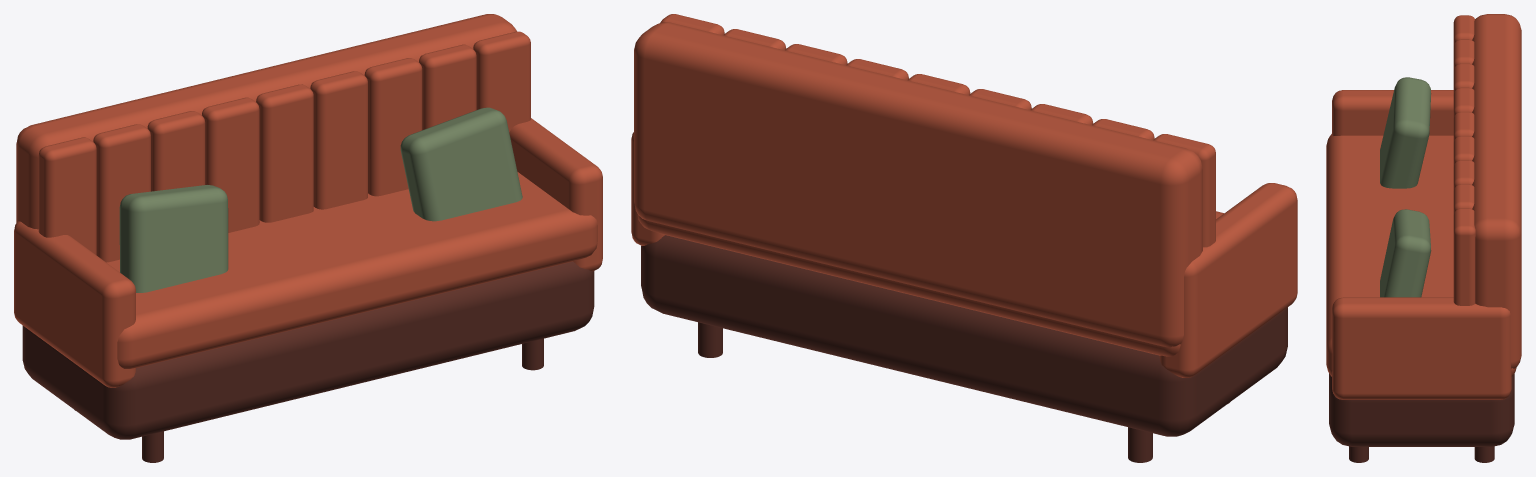
File: banquette.glb
3 views of the same model, side by side, from view 1: azimuth 30°, elevation 25°; view 2: azimuth 150°, elevation 25°; view 3: azimuth 270°, elevation 25° (orthographic). The views are drawn at different scales.
Visible parts, largest first — view 1: surface-#B5543A,0,0.7, surface-#5A2E25,0,0.7, surface-#6F7F5F,0,0.7; view 2: surface-#B5543A,0,0.7, surface-#5A2E25,0,0.7; view 3: surface-#B5543A,0,0.7, surface-#5A2E25,0,0.7, surface-#6F7F5F,0,0.7.
Part boxes in pixels (bbox=[...]): surface-#B5543A,0,0.7: bbox=[14, 14, 602, 387]; surface-#5A2E25,0,0.7: bbox=[22, 261, 594, 462]; surface-#6F7F5F,0,0.7: bbox=[119, 107, 522, 292]; surface-#B5543A,0,0.7: bbox=[631, 14, 1297, 377]; surface-#5A2E25,0,0.7: bbox=[641, 235, 1287, 462]; surface-#B5543A,0,0.7: bbox=[1326, 14, 1521, 399]; surface-#5A2E25,0,0.7: bbox=[1329, 373, 1514, 462]; surface-#6F7F5F,0,0.7: bbox=[1380, 77, 1431, 297].
Size of the model in its own units: 1.84 by 0.995 by 0.685.
